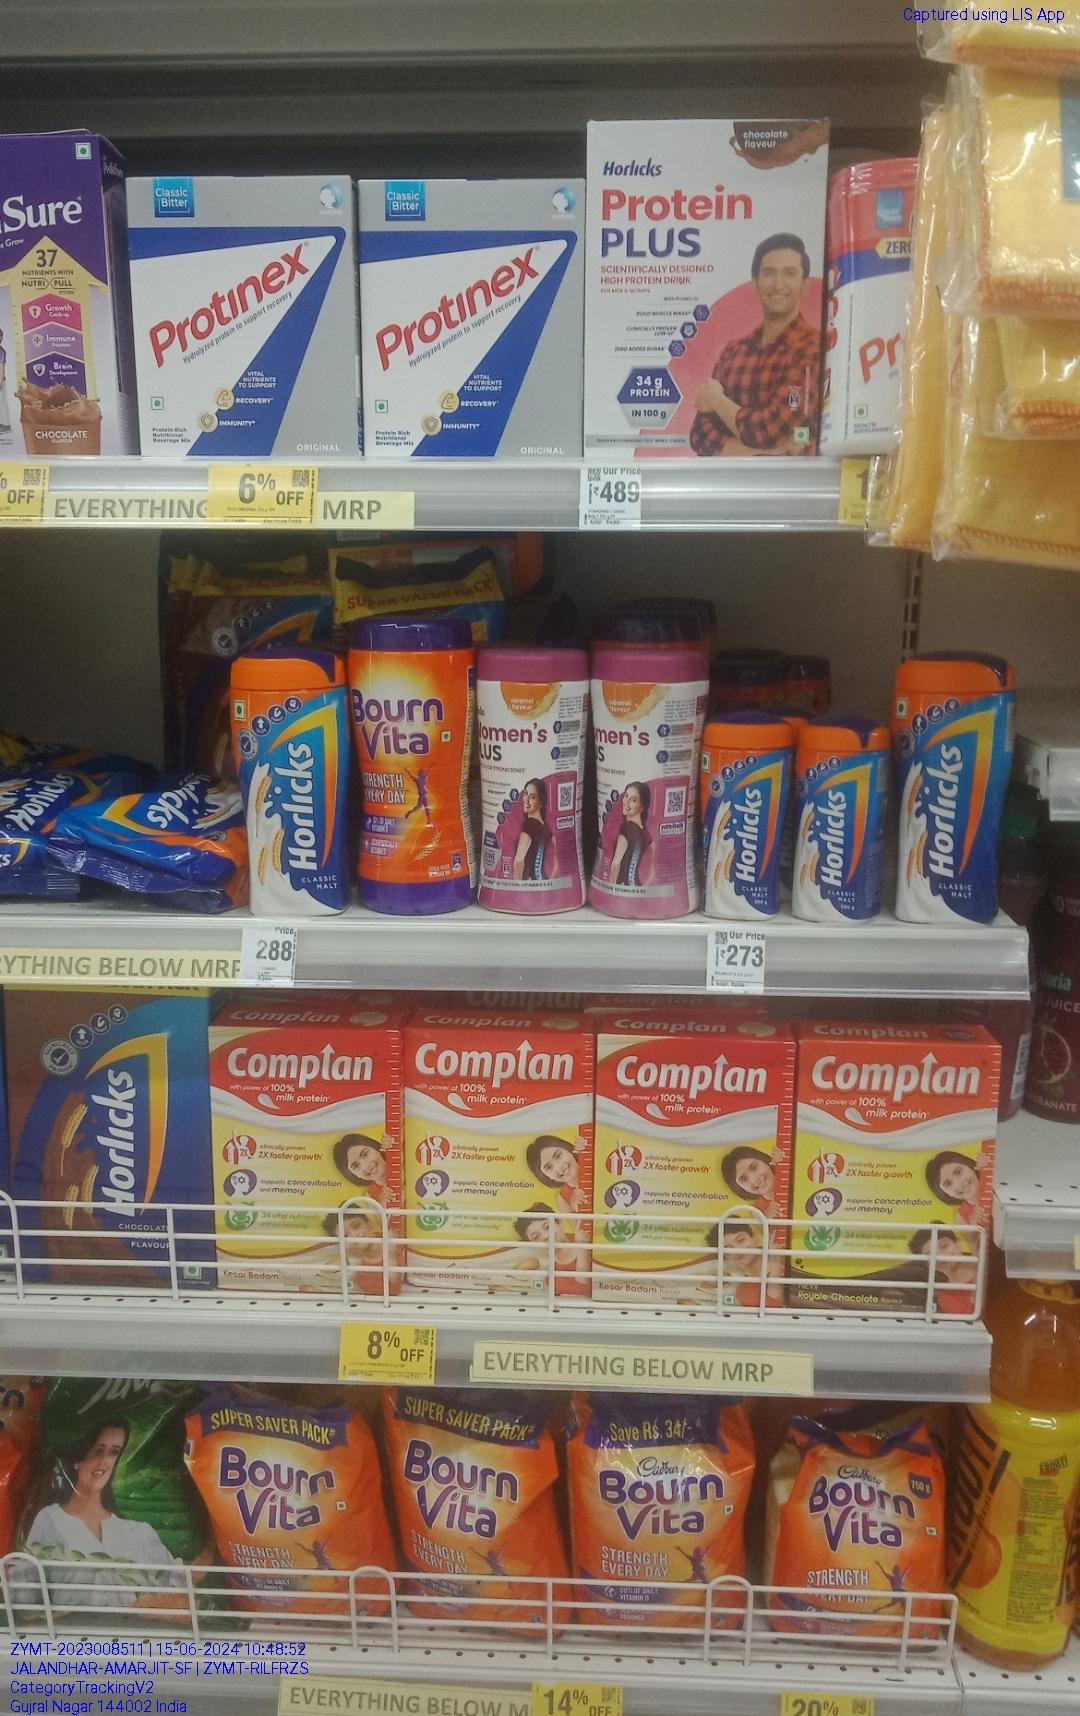BOURN_VITA_1_KG_POUCH: (398, 1390, 562, 1639), (215, 1404, 383, 1628)
BOURN_VITA_500_G_JAR: (352, 623, 469, 916)
BOURN_VITA_750_G_POUCH: (773, 1435, 943, 1658)
COMPLAN_CHOCOLATE_500_GMS_PACK: (800, 1040, 988, 1313)
COMPLAN_KESAR_BADAM_500_GMS_PACK: (596, 1034, 788, 1313), (212, 1022, 403, 1295), (407, 1024, 590, 1293)
HORLICK_CHOCOLATE_1_KG_PACK: (7, 991, 207, 1284)
HORLICK_CLASSIC_MALT_200_G_JAR: (795, 722, 880, 927), (697, 722, 784, 921)
HORLICK_CLASSIC_MALT_500_G_JAR: (891, 651, 999, 926), (236, 657, 346, 912)
